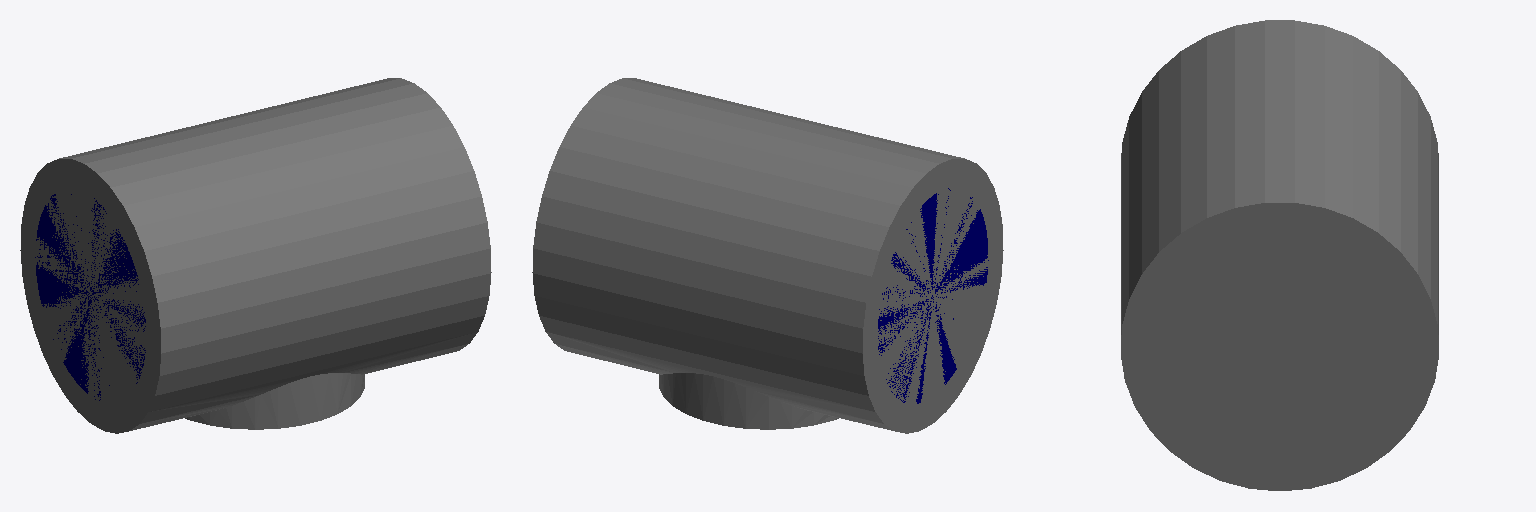
URDF robot description (corner_link-ms.SLDASM):
<?xml version="1.0" encoding="utf-8"?>
<!-- This URDF was automatically created by SolidWorks to URDF Exporter! Originally created by [author] ([email redacted]) 
     Commit Version: 1.6.0-4-g7f85cfe  Build Version: 1.6.7995.38578
     For more information, please see http://wiki.ros.org/sw_urdf_exporter -->
<robot
  name="corner_link-ms.SLDASM">
  <link
    name="ic_in_1">
    <inertial>
      <origin
        xyz="-4.0653E-10 -2.7764E-08 0.046224"
        rpy="0 0 0" />
      <mass
        value="0.89759" />
      <inertia
        ixx="0.0010141"
        ixy="3.7229E-10"
        ixz="3.7341E-11"
        iyy="0.0017044"
        iyz="-1.9973E-09"
        izz="0.0016859" />
    </inertial>
    <visual>
      <origin
        xyz="0 0 0"
        rpy="0 0 0" />
      <geometry>
        <mesh
          filename="package://corner_link-ms.SLDASM/meshes/ic_in_1.STL" />
      </geometry>
      <material
        name="blue">
        <color
          rgba="0 0 0.5 1" />
      </material>
    </visual>
    <collision>
      <origin
        xyz="0 0 0"
        rpy="0 0 0" />
      <geometry>
        <mesh
          filename="package://corner_link-ms.SLDASM/meshes/ic_in_1.STL" />
      </geometry>
    </collision>
  </link>
  <link
    name="ic_body">
    <inertial>
      <origin
        xyz="3.018E-09 -2.3038E-08 0.046224"
        rpy="0 0 0" />
      <mass
        value="0.89759" />
      <inertia
        ixx="0.0010141"
        ixy="3.7229E-10"
        ixz="3.7341E-11"
        iyy="0.0017044"
        iyz="-1.9973E-09"
        izz="0.0016859" />
    </inertial>
    <visual>
      <origin
        xyz="0 0 0"
        rpy="0 0 0" />
      <geometry>
        <mesh
          filename="package://corner_link-ms.SLDASM/meshes/ic_body.STL" />
      </geometry>
      <material
        name="body">
        <color
          rgba="0.5 0.5 0.5 1" />
      </material>
    </visual>
    <collision>
      <origin
        xyz="0 0 0"
        rpy="0 0 0" />
      <geometry>
        <mesh
          filename="package://corner_link-ms.SLDASM/meshes/ic_body.STL" />
      </geometry>
    </collision>
  </link>
  <joint
    name="ic_small"
    type="fixed">
    <origin
      xyz="0 0 0"
      rpy="0 0 0" />
    <parent
      link="ic_in_1" />
    <child
      link="ic_body" />
    <axis
      xyz="0 0 0" />
    <limit
      lower="-3.1416"
      upper="3.1416"
      effort="4.5"
      velocity="0.5" />
  </joint>
  <link
    name="ic_in_2">
    <inertial>
      <origin
        xyz="0.00077637 -2.7764E-08 0.0635"
        rpy="0 0 0" />
      <mass
        value="0.89759" />
      <inertia
        ixx="0.0016859"
        ixy="1.9973E-09"
        ixz="-3.7341E-11"
        iyy="0.0017044"
        iyz="3.7229E-10"
        izz="0.0010141" />
    </inertial>
    <visual>
      <origin
        xyz="0 0 0"
        rpy="0 0 0" />
      <geometry>
        <mesh
          filename="package://corner_link-ms.SLDASM/meshes/ic_in_2.STL" />
      </geometry>
      <material
        name="blue">
        <color
          rgba="0 0 0.5 1" />
      </material>
    </visual>
    <collision>
      <origin
        xyz="0 0 0"
        rpy="0 0 0" />
      <geometry>
        <mesh
          filename="package://corner_link-ms.SLDASM/meshes/ic_in_2.STL" />
      </geometry>
    </collision>
  </link>
  <joint
    name="ic_medium"
    type="fixed">
    <origin
      xyz="-0.0635 0 0.047"
      rpy="0 1.5707963267949 0" />
    <parent
      link="ic_body" />
    <child
      link="ic_in_2" />
    <axis
      xyz="0 0 0" />
  </joint>
</robot>

--- Facts derived from the render (not from the file) ---
3 views of the same robot in one strip: view 1: azimuth 30°, elevation 25°; view 2: azimuth 150°, elevation 25°; view 3: azimuth 270°, elevation 25° (orthographic).
Robot: corner_link-ms.SLDASM — 3 links, 2 joints (2 fixed); root link ic_in_1; default pose: all joints at 0.
Links seen in each view (by area): view 1: ic_body, ic_in_2; view 2: ic_body, ic_in_2; view 3: ic_body.
Boxes of the visible links, x1,y1,x2,y2 form: ic_body: (20, 78, 491, 433); ic_in_2: (35, 194, 145, 400); ic_body: (532, 78, 1003, 433); ic_in_2: (878, 188, 988, 403); ic_body: (1121, 20, 1438, 490).
Bounding box of the posed robot: 0.127 × 0.0939 × 0.0938 m (x, y, z).
3 mesh visuals loaded from 3 distinct referenced files (3 binary STL).